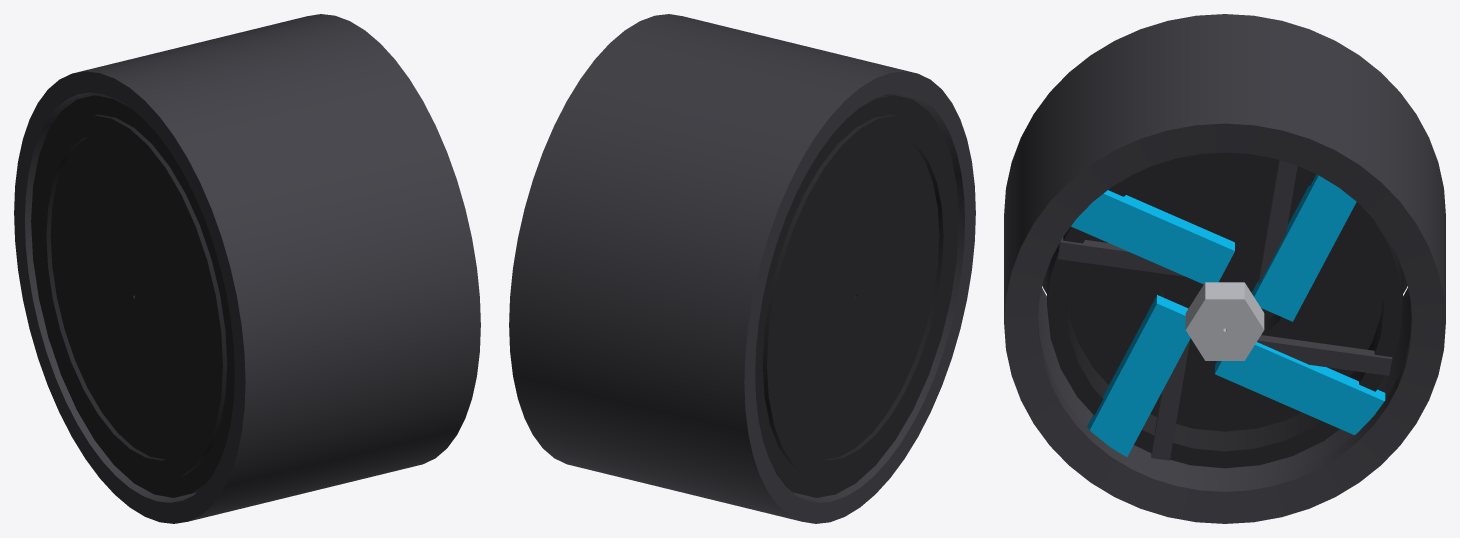
Rendered from shuriken_front.glb.
The picture shows the model from 3 angles, left to right: view 1: azimuth 30°, elevation 25°; view 2: azimuth 150°, elevation 25°; view 3: azimuth 270°, elevation 25°; orthographic projection. The views are drawn at different scales.
Visible parts, largest first — view 1: Rim_shuriken_front; view 2: Rim_shuriken_front; view 3: Rim_shuriken_front.
Part boxes in pixels (x1=…): Rim_shuriken_front: x1=14, y1=14, x2=480, y2=523; Rim_shuriken_front: x1=509, y1=14, x2=975, y2=523; Rim_shuriken_front: x1=1004, y1=14, x2=1445, y2=523.
Bounding box in the file's own units: 0.293 × 0.472 × 0.472.
